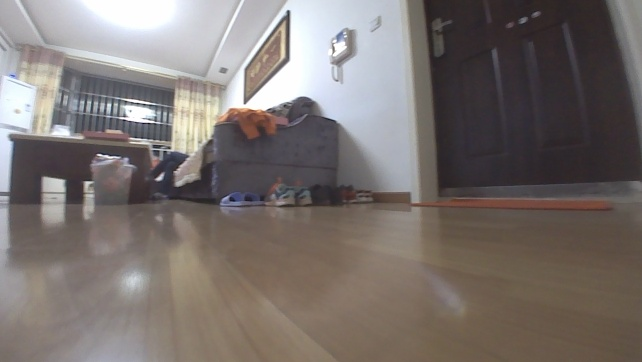blanket: (410, 195, 619, 215)
door_anno: (420, 0, 641, 192)
shoe: (261, 176, 313, 210)
slipper: (218, 188, 263, 208)
sofa: (160, 95, 340, 205)
tea_table: (3, 130, 156, 208)
